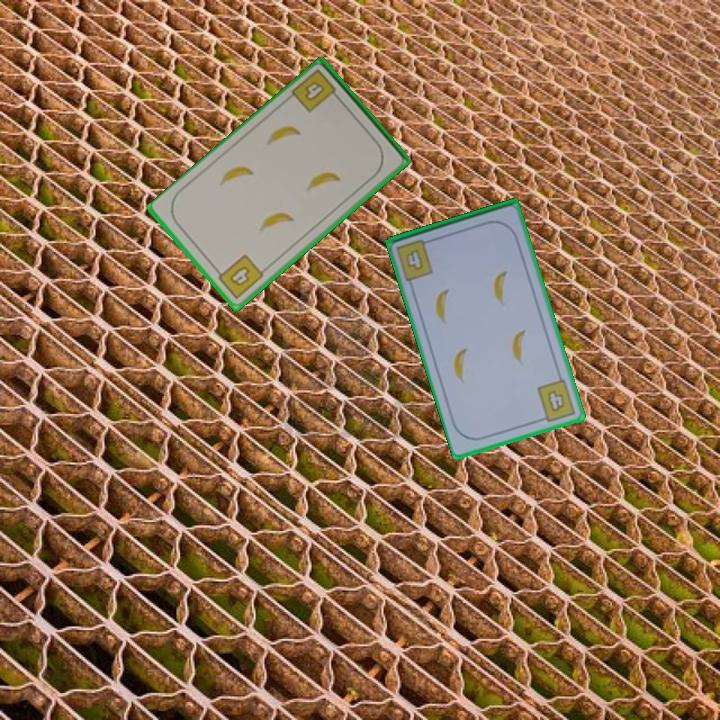4b: (212, 251, 267, 302), (288, 66, 343, 116), (534, 376, 579, 425), (393, 235, 436, 284)
